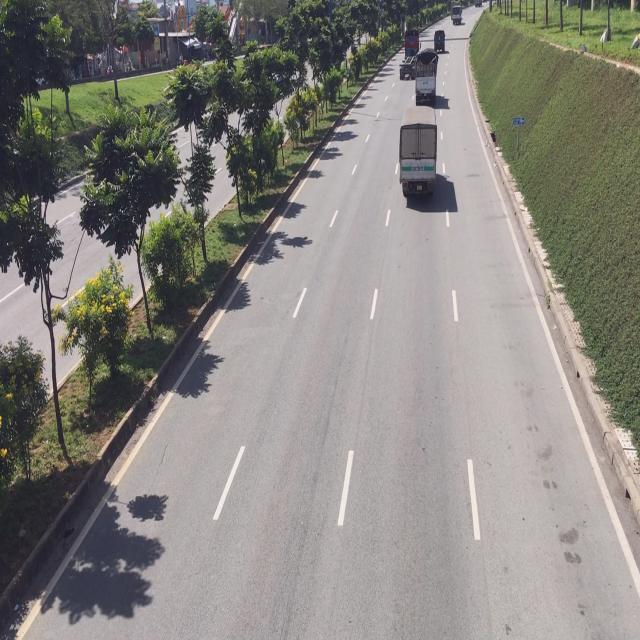truck: (400, 105, 438, 200), (416, 44, 438, 105), (397, 28, 419, 79), (434, 28, 446, 56)
